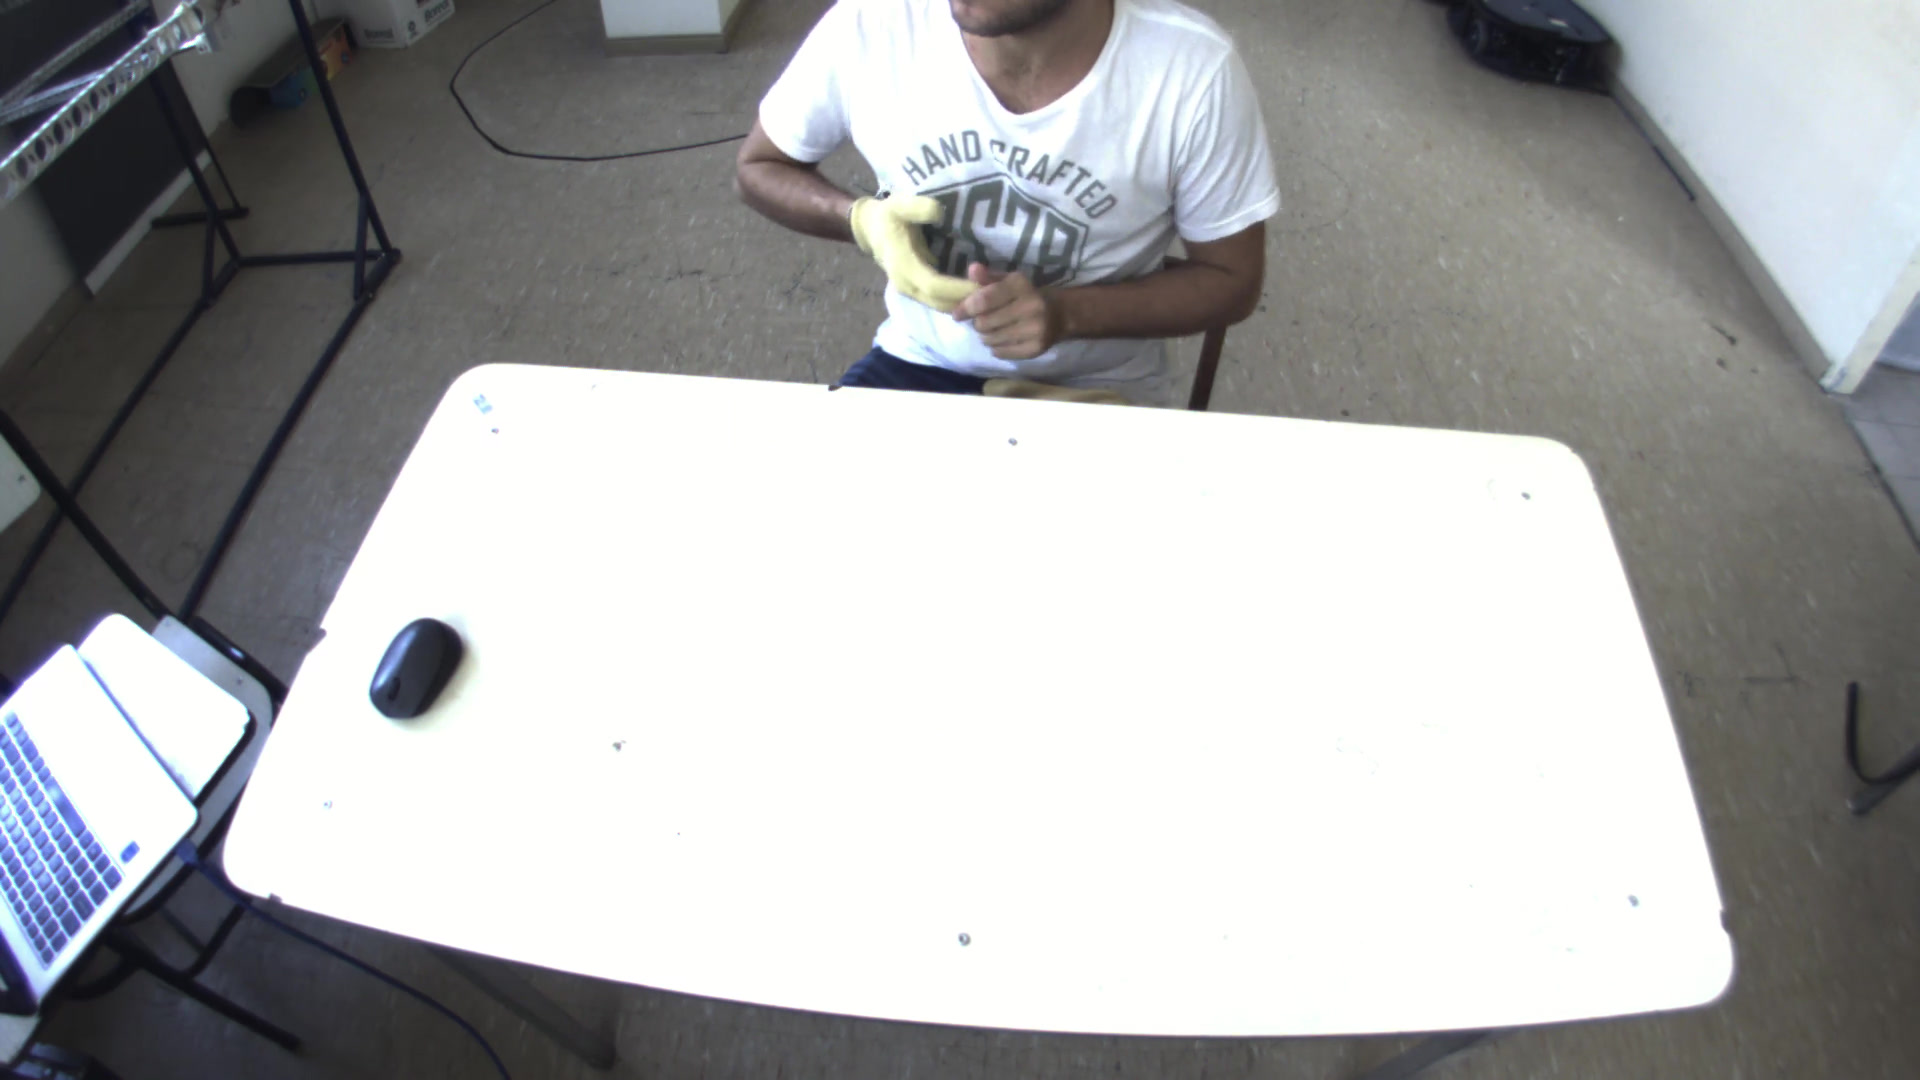hand: (843, 191, 988, 315), (942, 258, 1065, 359)
